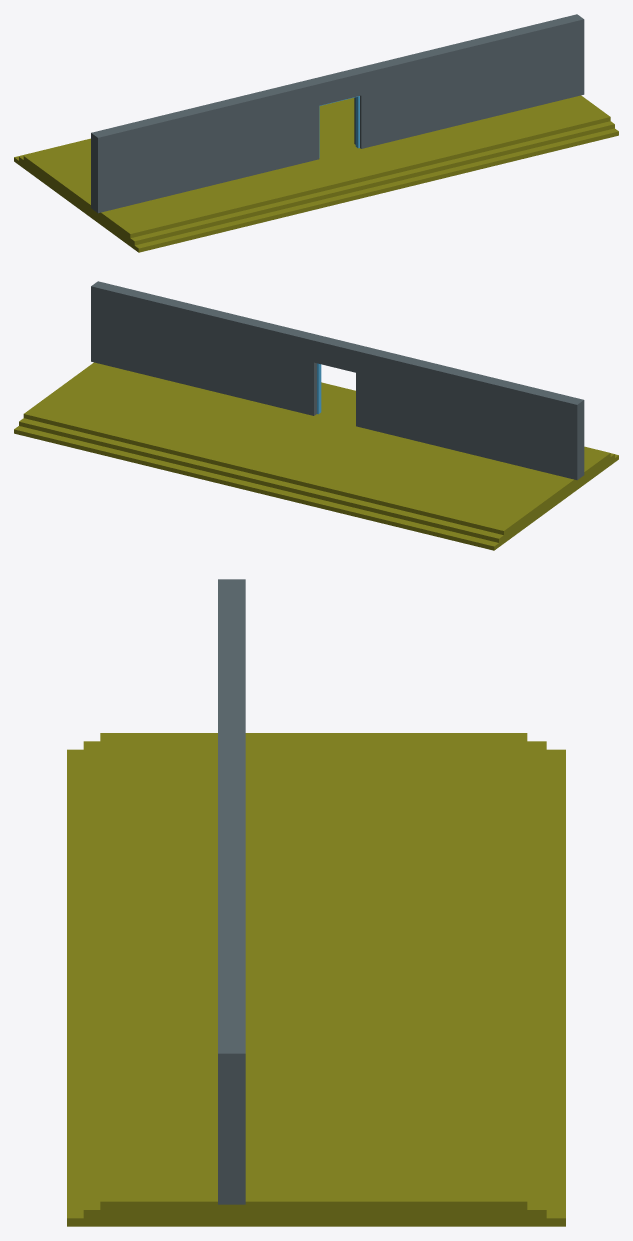
The picture shows the model from 3 angles, top to bottom: view 1: azimuth 30°, elevation 25°; view 2: azimuth 150°, elevation 25°; view 3: azimuth 270°, elevation 25°; orthographic projection. The views are drawn at different scales.
Visible parts, largest first — view 1: BP20_F01_01; view 2: BP20_F01_01; view 3: BP20_F01_01.
Boxes of the visible parts, x1,y1,x2,y2 form: BP20_F01_01: [14, 14, 618, 252]; BP20_F01_01: [14, 281, 618, 550]; BP20_F01_01: [67, 579, 565, 1226].
Size of the model in its own units: 2025 by 350 by 900.
